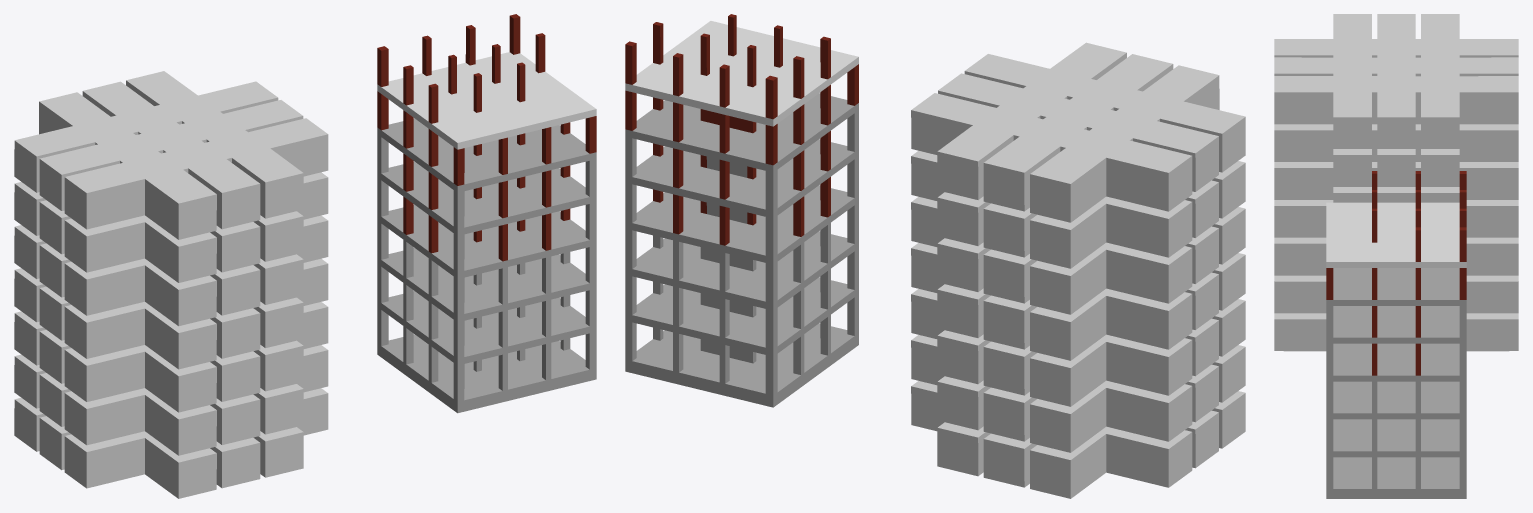
File: BatimentConstru.fbx
3 renders of one model, left to right at view 1: azimuth 30°, elevation 25°; view 2: azimuth 150°, elevation 25°; view 3: azimuth 270°, elevation 25°, orthographic. The views are drawn at different scales.
Parts seen in each view (by area): view 1: Cube.005, Cube; view 2: Cube.005, Cube; view 3: Cube.005, Cube.
Part boxes in pixels (x1,y1,x2,y2): Cube.005: [14, 71, 328, 498]; Cube: [377, 14, 596, 413]; Cube.005: [911, 42, 1245, 498]; Cube: [625, 14, 858, 407]; Cube.005: [1274, 14, 1518, 351]; Cube: [1326, 171, 1466, 498].
Size of the model in its own units: 5825 by 3375 by 2782.
